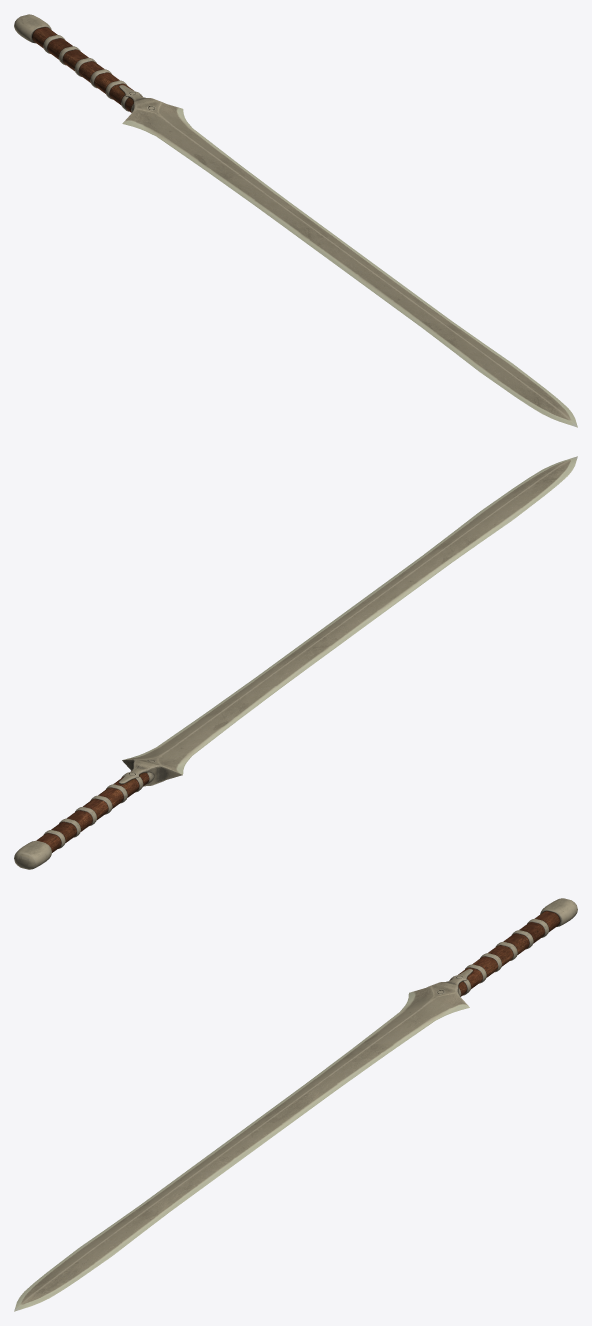
File: Longsword5Lod1.FBX
3 renders of one model, top to bottom at view 1: azimuth 30°, elevation 25°; view 2: azimuth 150°, elevation 25°; view 3: azimuth 330°, elevation 25°, orthographic.
Visible parts, largest first — view 1: Longsword5Lod1; view 2: Longsword5Lod1; view 3: Longsword5Lod1.
Boxes of the visible parts, x1=… form: Longsword5Lod1: x1=14, y1=14, x2=577, y2=427; Longsword5Lod1: x1=14, y1=456, x2=577, y2=869; Longsword5Lod1: x1=14, y1=898, x2=577, y2=1311.
Size of the model in its own units: 0.0905 by 0.027 by 1.42.
